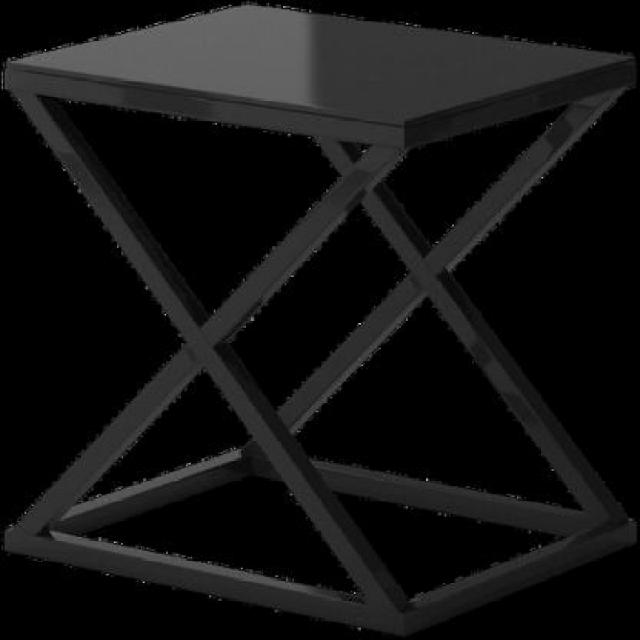table: (4, 4, 638, 636)
